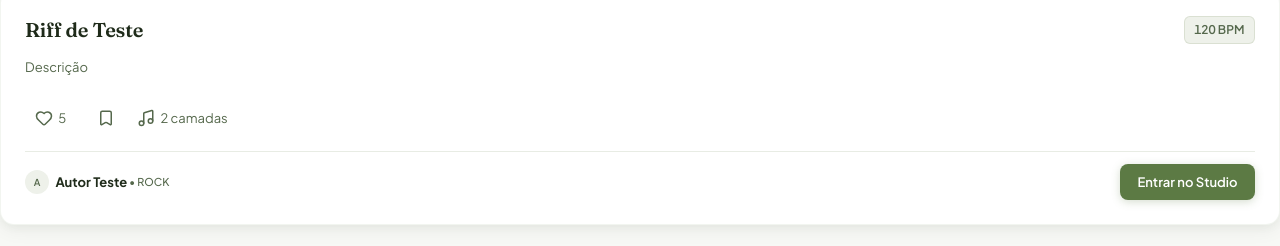
Test: ProjectCard › curtir responde na hora, antes do servidor
The width and height of the screenshot is (1280, 246).
Step 1. Click the button named "Curtir" → (50, 118), box [25,104,76,133]
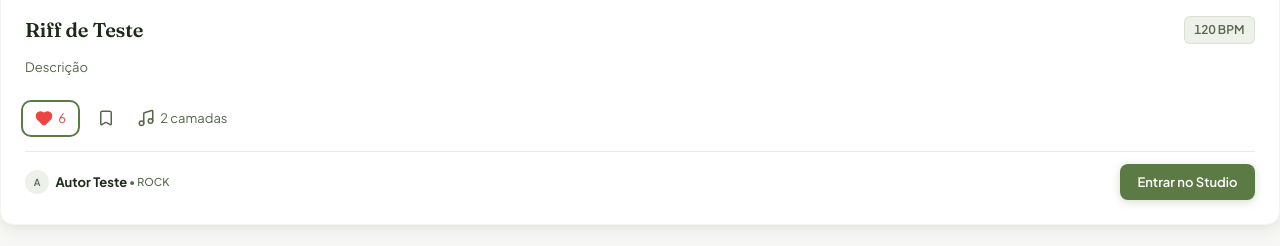
Now the button named "Descurtir" reads "6", box [25,104,76,133]
